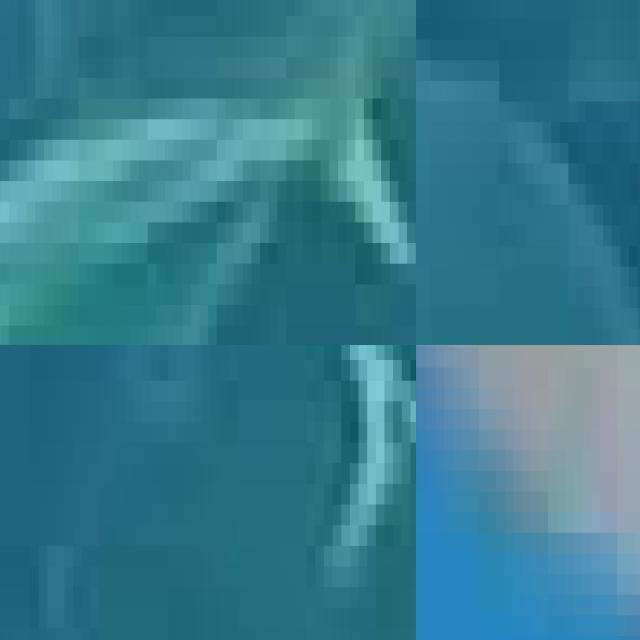fish: (0, 0, 416, 345), (246, 345, 416, 640)
